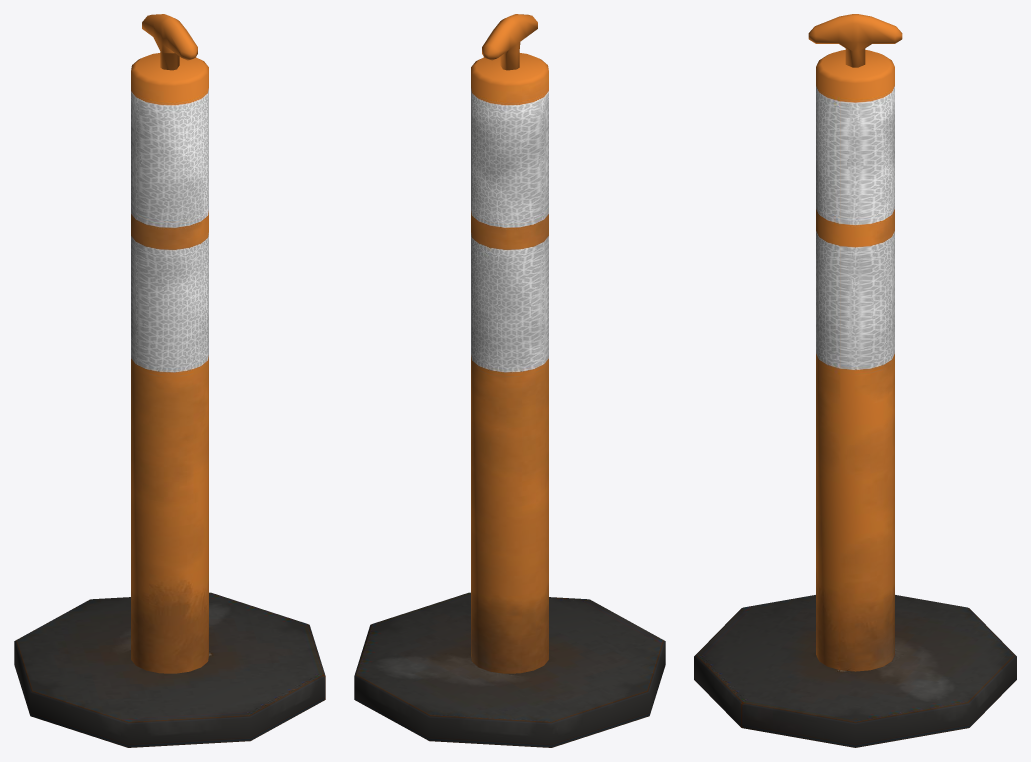
Rendered from delineator-post.glb.
3 renders of one model, left to right at view 1: azimuth 30°, elevation 25°; view 2: azimuth 150°, elevation 25°; view 3: azimuth 270°, elevation 25°, orthographic.
Visible parts, largest first — view 1: Delineator Post; view 2: Delineator Post; view 3: Delineator Post.
Part boxes in pixels (x1,y1,x2,y2): Delineator Post: (14, 14, 325, 747); Delineator Post: (354, 14, 665, 747); Delineator Post: (694, 14, 1016, 747).
Bounding box in the file's own units: 0.5056 × 1.15 × 0.5056.
1 material, 1 textured.
